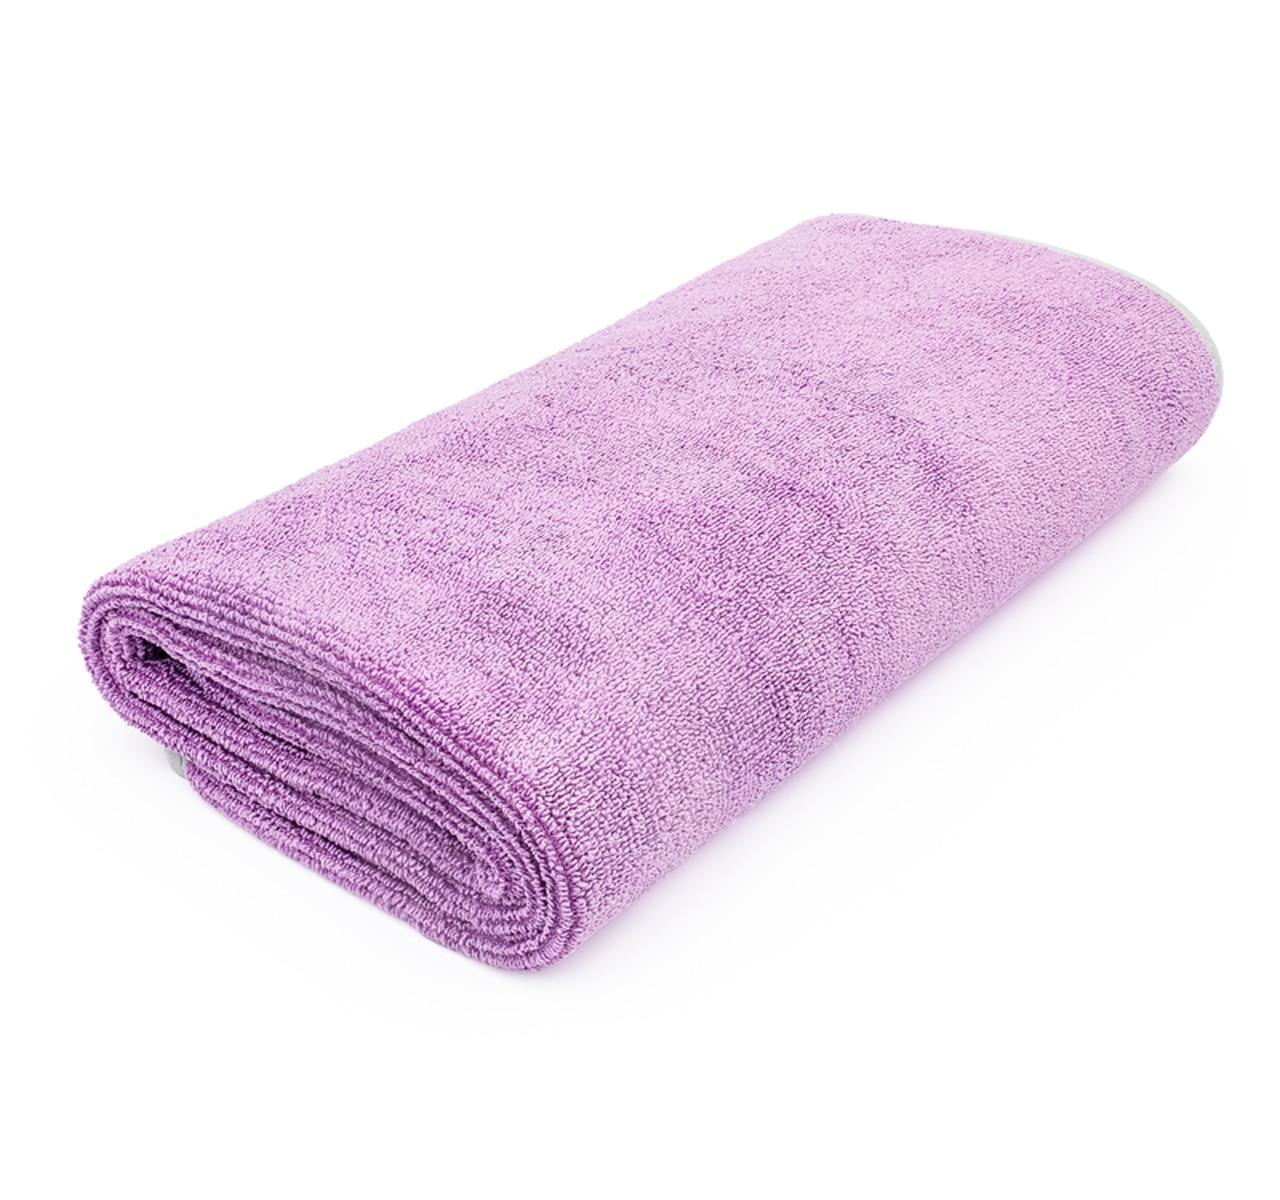towel: (0, 162, 1255, 925)
